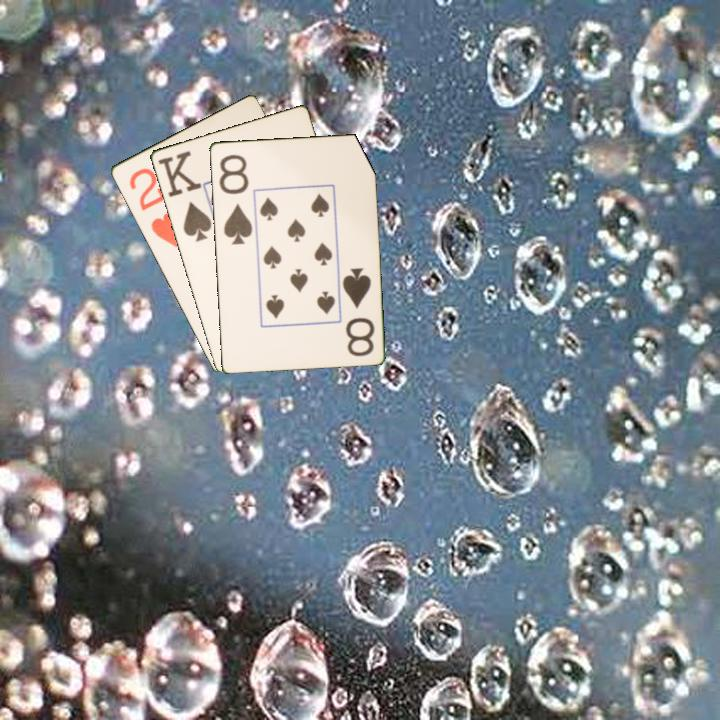2h: (125, 164, 182, 251)
8s: (215, 151, 255, 247), (339, 264, 377, 359)
Ks: (154, 147, 214, 245)
